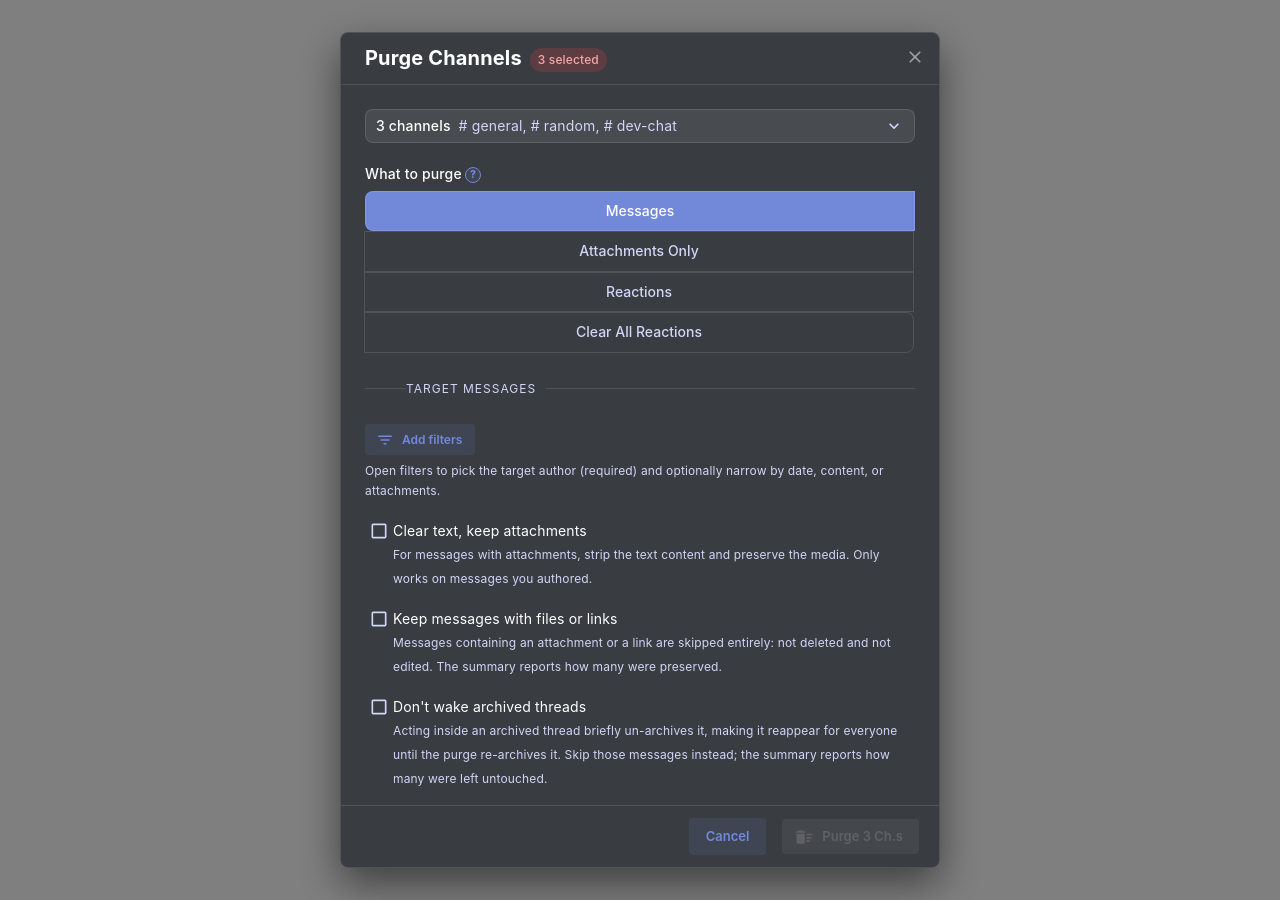
BulkPurgeDialog › Channel mode › hides Target section but still exposes filters in Clear All Reactions mode
Step 1. Click the button "Clear All Reactions" → coordinates (639, 332), box [364,312,914,352]
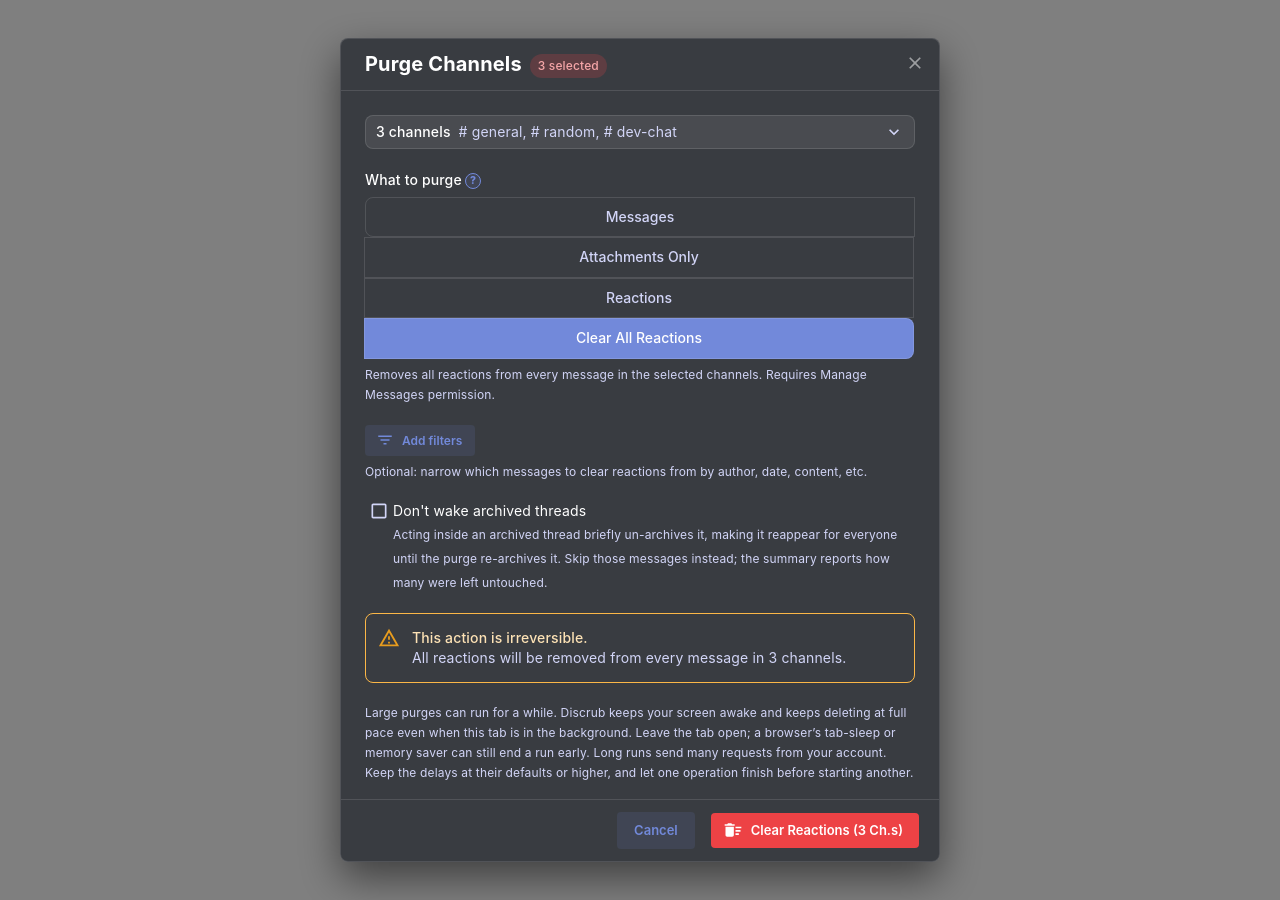
Expected: the button "Add filters" is shown, [365,424,475,456]
Result: the text "Target messages" is gone
